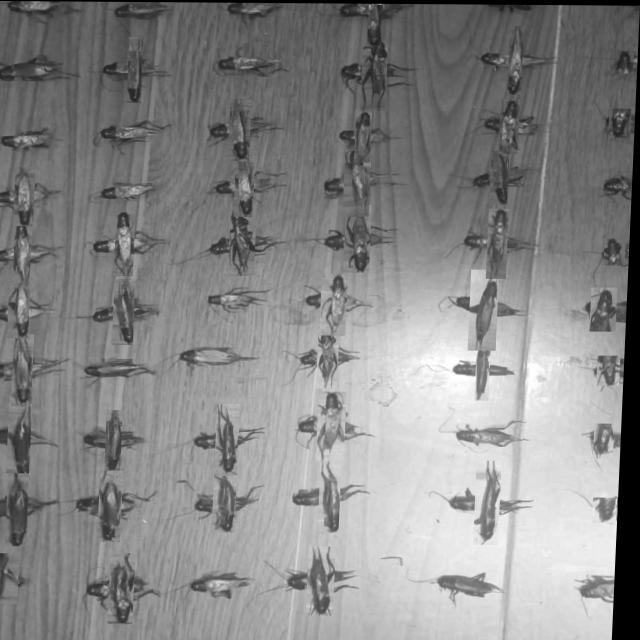no_egg: (478, 459, 505, 543), (473, 268, 501, 349), (437, 572, 507, 602), (321, 390, 349, 460), (312, 545, 340, 614), (0, 55, 75, 80), (12, 395, 36, 472), (346, 203, 373, 271), (115, 552, 140, 623), (363, 39, 388, 109), (232, 208, 258, 275), (11, 466, 33, 545), (103, 470, 127, 540), (220, 402, 243, 474), (324, 272, 350, 335), (347, 148, 371, 216), (324, 456, 345, 531), (490, 207, 511, 277), (217, 53, 283, 75), (16, 333, 36, 405), (194, 573, 253, 597), (183, 347, 261, 365), (218, 471, 241, 531), (458, 425, 527, 444), (230, 97, 251, 159), (117, 278, 137, 343), (322, 324, 342, 387), (0, 552, 24, 604), (117, 211, 136, 275), (101, 122, 167, 140), (16, 166, 36, 225), (88, 359, 157, 376), (237, 154, 256, 215), (11, 282, 32, 337), (593, 286, 619, 330), (127, 36, 144, 102), (7, 0, 77, 16), (108, 409, 126, 470), (17, 220, 33, 287), (0, 129, 55, 148), (501, 97, 520, 152), (507, 24, 522, 93), (492, 149, 511, 203), (211, 291, 267, 309), (479, 337, 494, 399), (114, 2, 170, 18), (584, 574, 619, 599), (102, 183, 155, 198), (226, 1, 279, 16), (357, 110, 372, 161), (597, 422, 618, 455), (367, 2, 383, 45), (601, 354, 624, 383), (604, 175, 634, 197), (597, 496, 623, 521), (610, 107, 632, 135), (607, 237, 627, 264), (616, 49, 634, 73), (487, 3, 539, 9)
